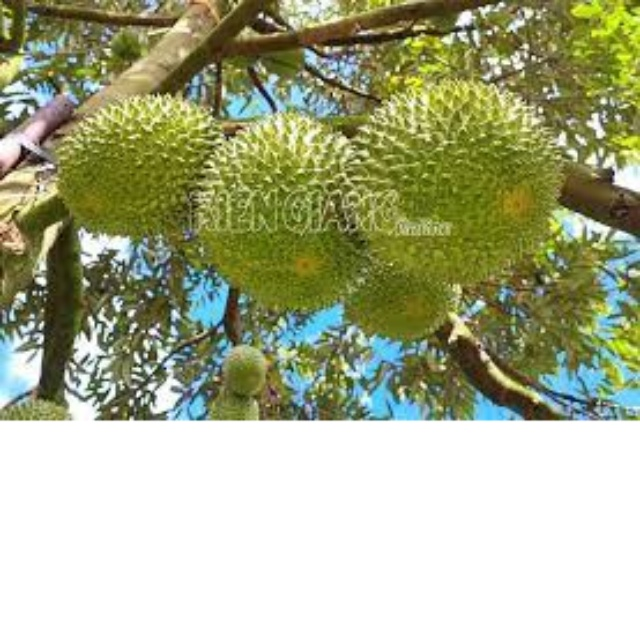sau_rieng: (348, 82, 566, 272), (199, 119, 360, 311), (56, 98, 217, 239)
